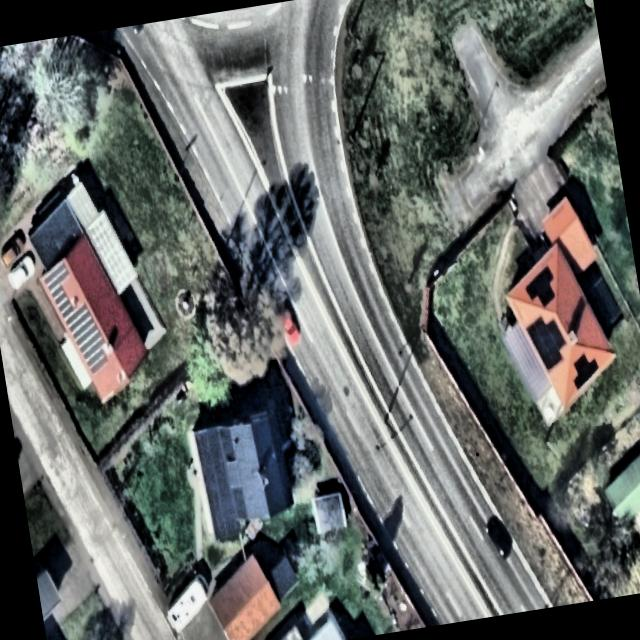roof_pv: (524, 312, 570, 374), (61, 302, 108, 352), (522, 262, 562, 314), (568, 346, 604, 394), (42, 258, 74, 297), (78, 342, 108, 374), (51, 289, 75, 319)
